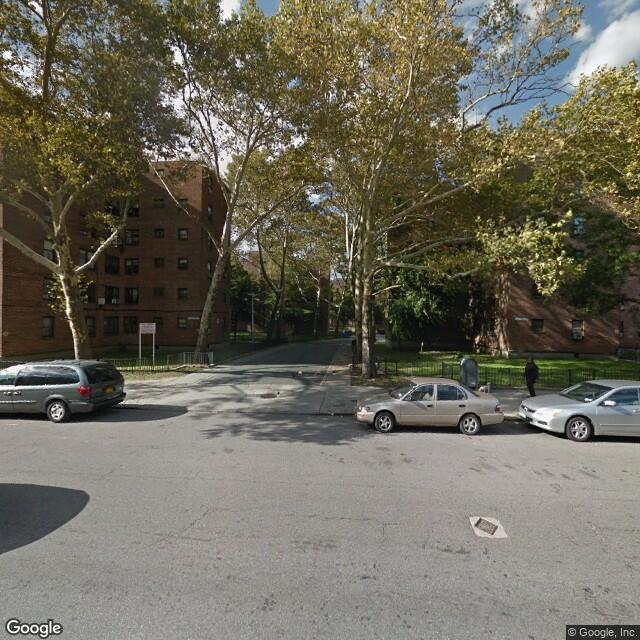litter: (325, 404, 347, 418), (292, 367, 310, 383)
